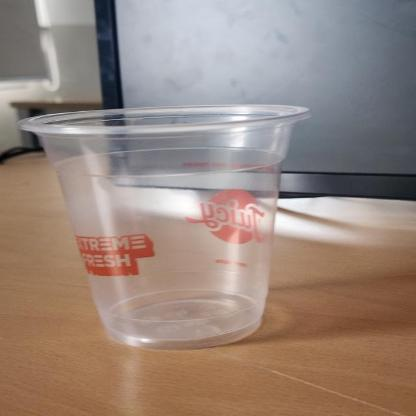Plastic Cup: (14, 103, 312, 351)
